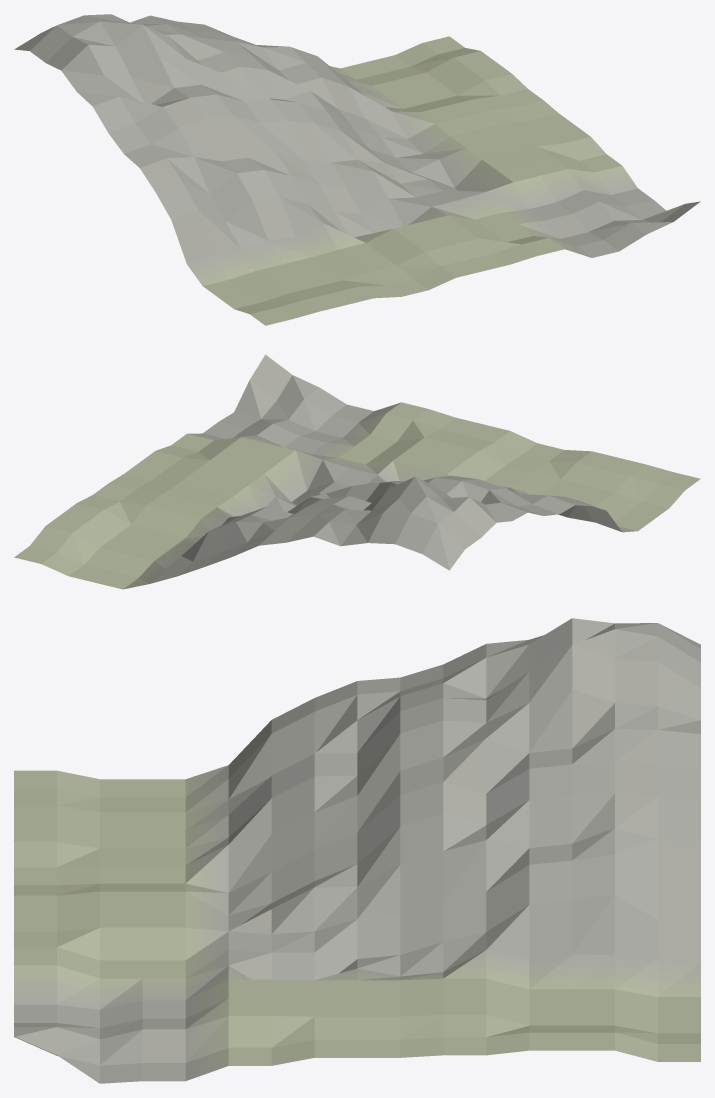
The picture shows the model from 3 angles, top to bottom: view 1: azimuth 30°, elevation 25°; view 2: azimuth 150°, elevation 25°; view 3: azimuth 270°, elevation 25°; orthographic projection. The views are drawn at different scales.
Size of the model in its own units: 32 by 10.43 by 32.
